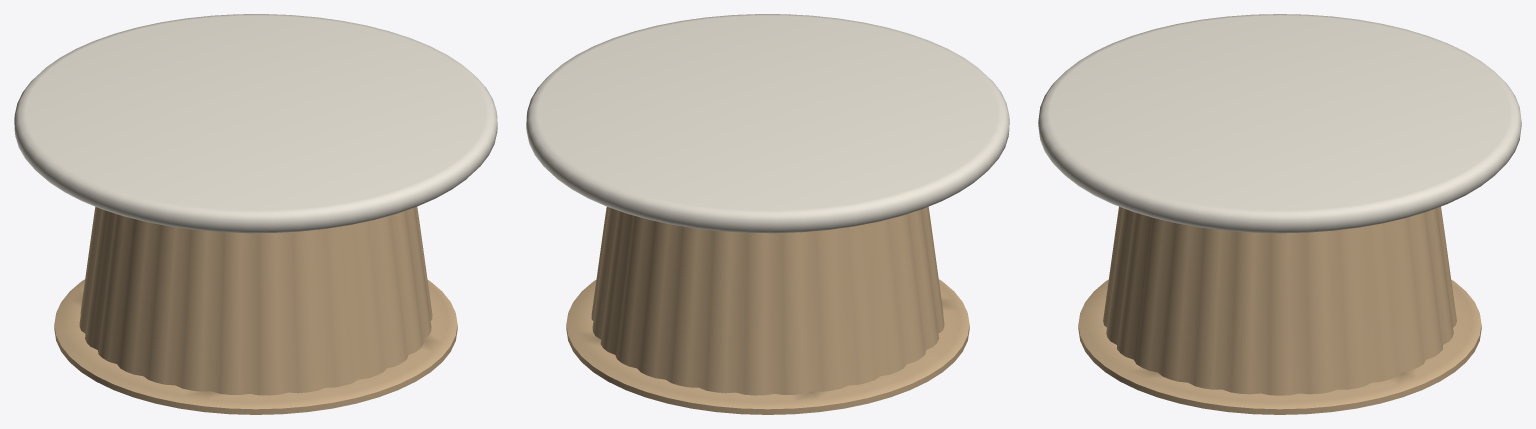
File: coffeeTableRound.glb
The picture shows the model from 3 angles, left to right: view 1: azimuth 30°, elevation 25°; view 2: azimuth 150°, elevation 25°; view 3: azimuth 270°, elevation 25°; orthographic projection.
Visible parts, largest first — view 1: coffeeTableRound; view 2: coffeeTableRound; view 3: coffeeTableRound.
Boxes of the visible parts, x1=… form: coffeeTableRound: x1=14, y1=14, x2=497, y2=414; coffeeTableRound: x1=526, y1=14, x2=1009, y2=414; coffeeTableRound: x1=1038, y1=14, x2=1521, y2=414.
Size of the model in its own units: 0.84 by 0.42 by 0.84.
